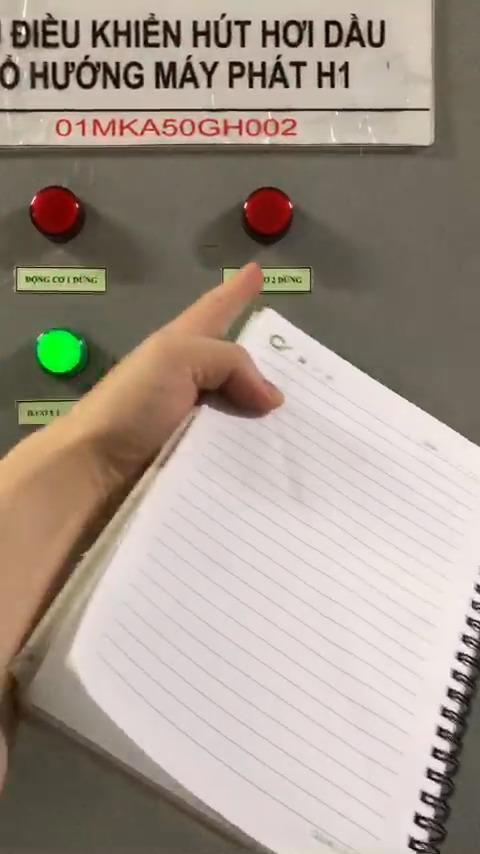led: (237, 186, 298, 244), (30, 184, 84, 239), (32, 327, 89, 379)
